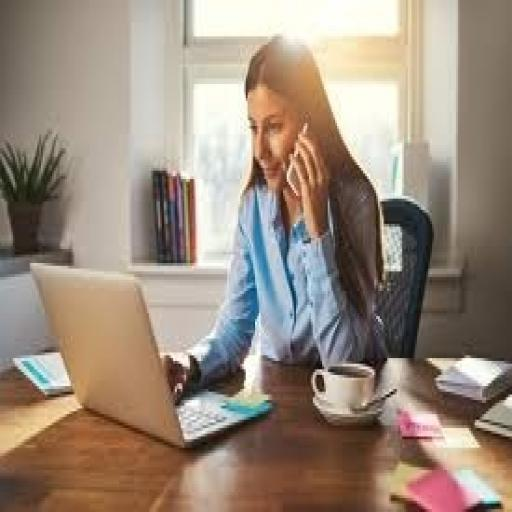calling: (162, 31, 389, 400)
